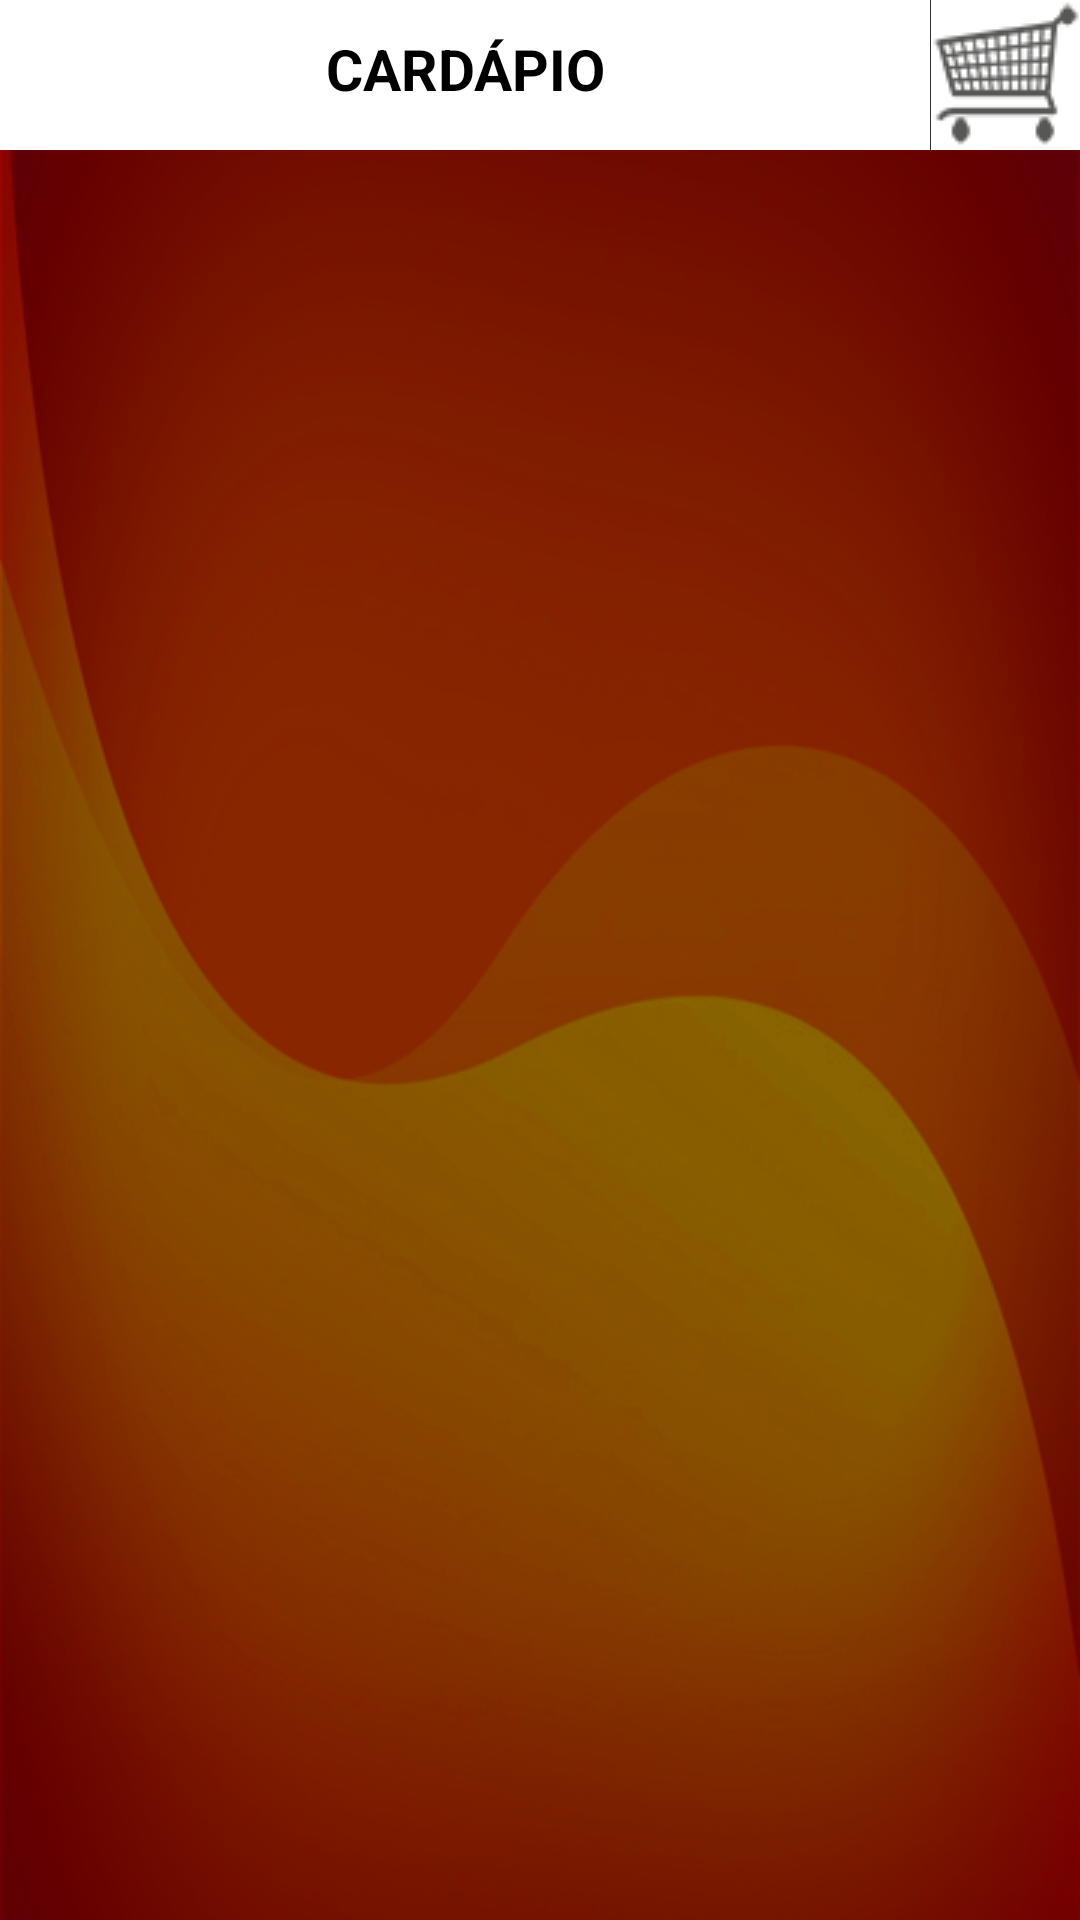

Named icons in this screenshot (1080w x 1920h) and their bounding boxes, (x1,y1,x2,y2):
carrinho: (934,3,1079,144)
